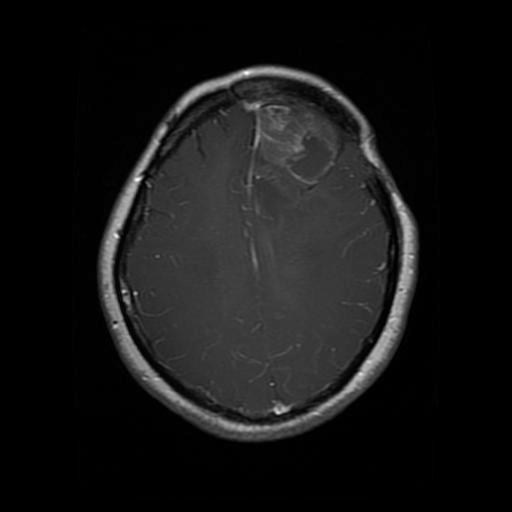Tumour-Glioma: (251, 90, 356, 185)
